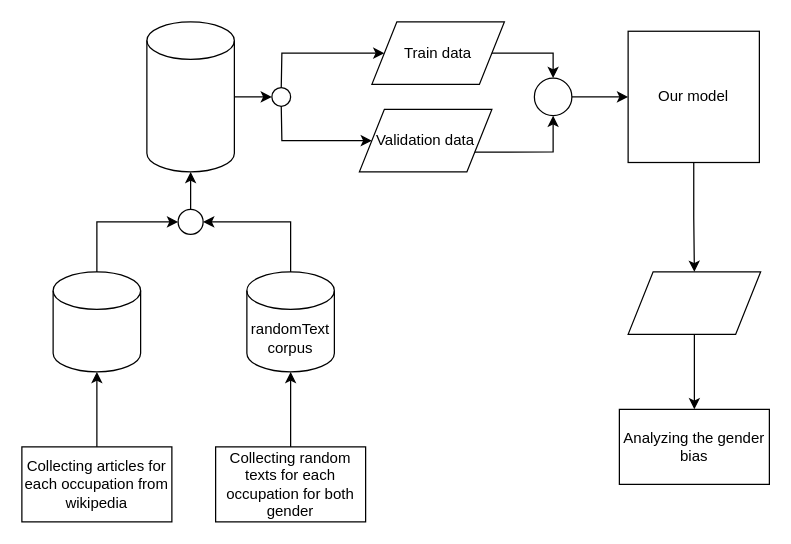
The diagram is 791 pixels wide and 544 high, and some of its shapes have lost their labels. Each missing label, with the centre of its shape:
"Combined corpus" belongs at [190,96].
"Generated Translations" belongs at [694,302].
"wikipedia corpus" belongs at [96,321].
